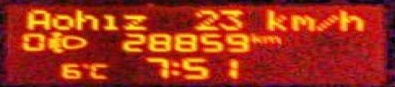0: (19, 31, 45, 51)
1: (224, 56, 243, 80)
2: (193, 8, 217, 31), (120, 32, 144, 51)
3: (219, 7, 242, 32)
5: (180, 56, 208, 80), (198, 32, 221, 53)
6: (58, 60, 77, 79)
7: (143, 55, 169, 79)
8: (146, 30, 170, 52), (172, 30, 193, 51)
9: (222, 31, 248, 53)
X: (19, 6, 48, 31), (338, 8, 365, 32), (73, 7, 100, 31), (263, 7, 287, 30), (120, 12, 149, 31), (89, 61, 115, 78), (313, 13, 336, 31), (287, 12, 312, 28), (100, 12, 120, 32), (50, 13, 73, 30), (247, 31, 265, 44), (168, 59, 180, 77), (263, 33, 281, 44)
